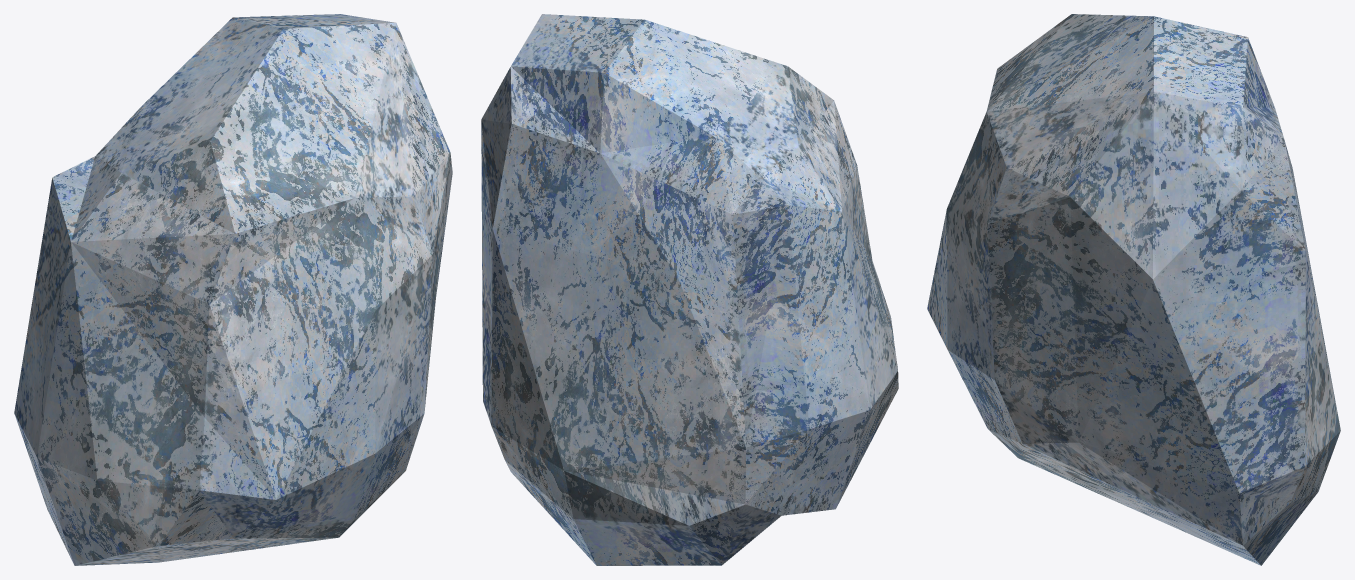
The model's file is asteroid_ice_radial_s02_l1.fbx.
3 views of the same model, side by side, from view 1: azimuth 30°, elevation 25°; view 2: azimuth 150°, elevation 25°; view 3: azimuth 270°, elevation 25° (orthographic). The views are drawn at different scales.
Parts seen in each view (by area): view 1: mesh_node; view 2: mesh_node; view 3: mesh_node.
Part boxes in pixels (x1=…): mesh_node: x1=14, y1=14, x2=452, y2=565; mesh_node: x1=481, y1=14, x2=898, y2=565; mesh_node: x1=927, y1=14, x2=1340, y2=565.
Bounding box in the file's own units: 4.45 × 5.71 × 3.89.
1 material, 1 textured.
